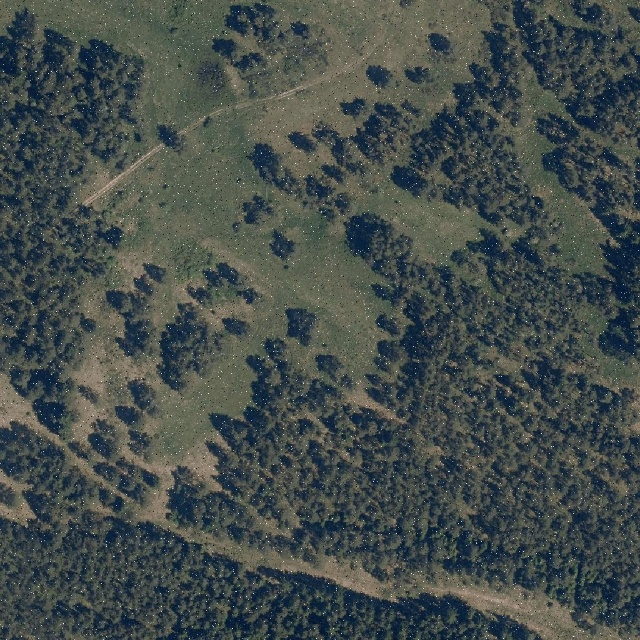vegetation: (166, 0, 640, 636), (0, 420, 541, 638), (0, 10, 158, 507), (254, 63, 423, 221), (106, 261, 255, 390)
